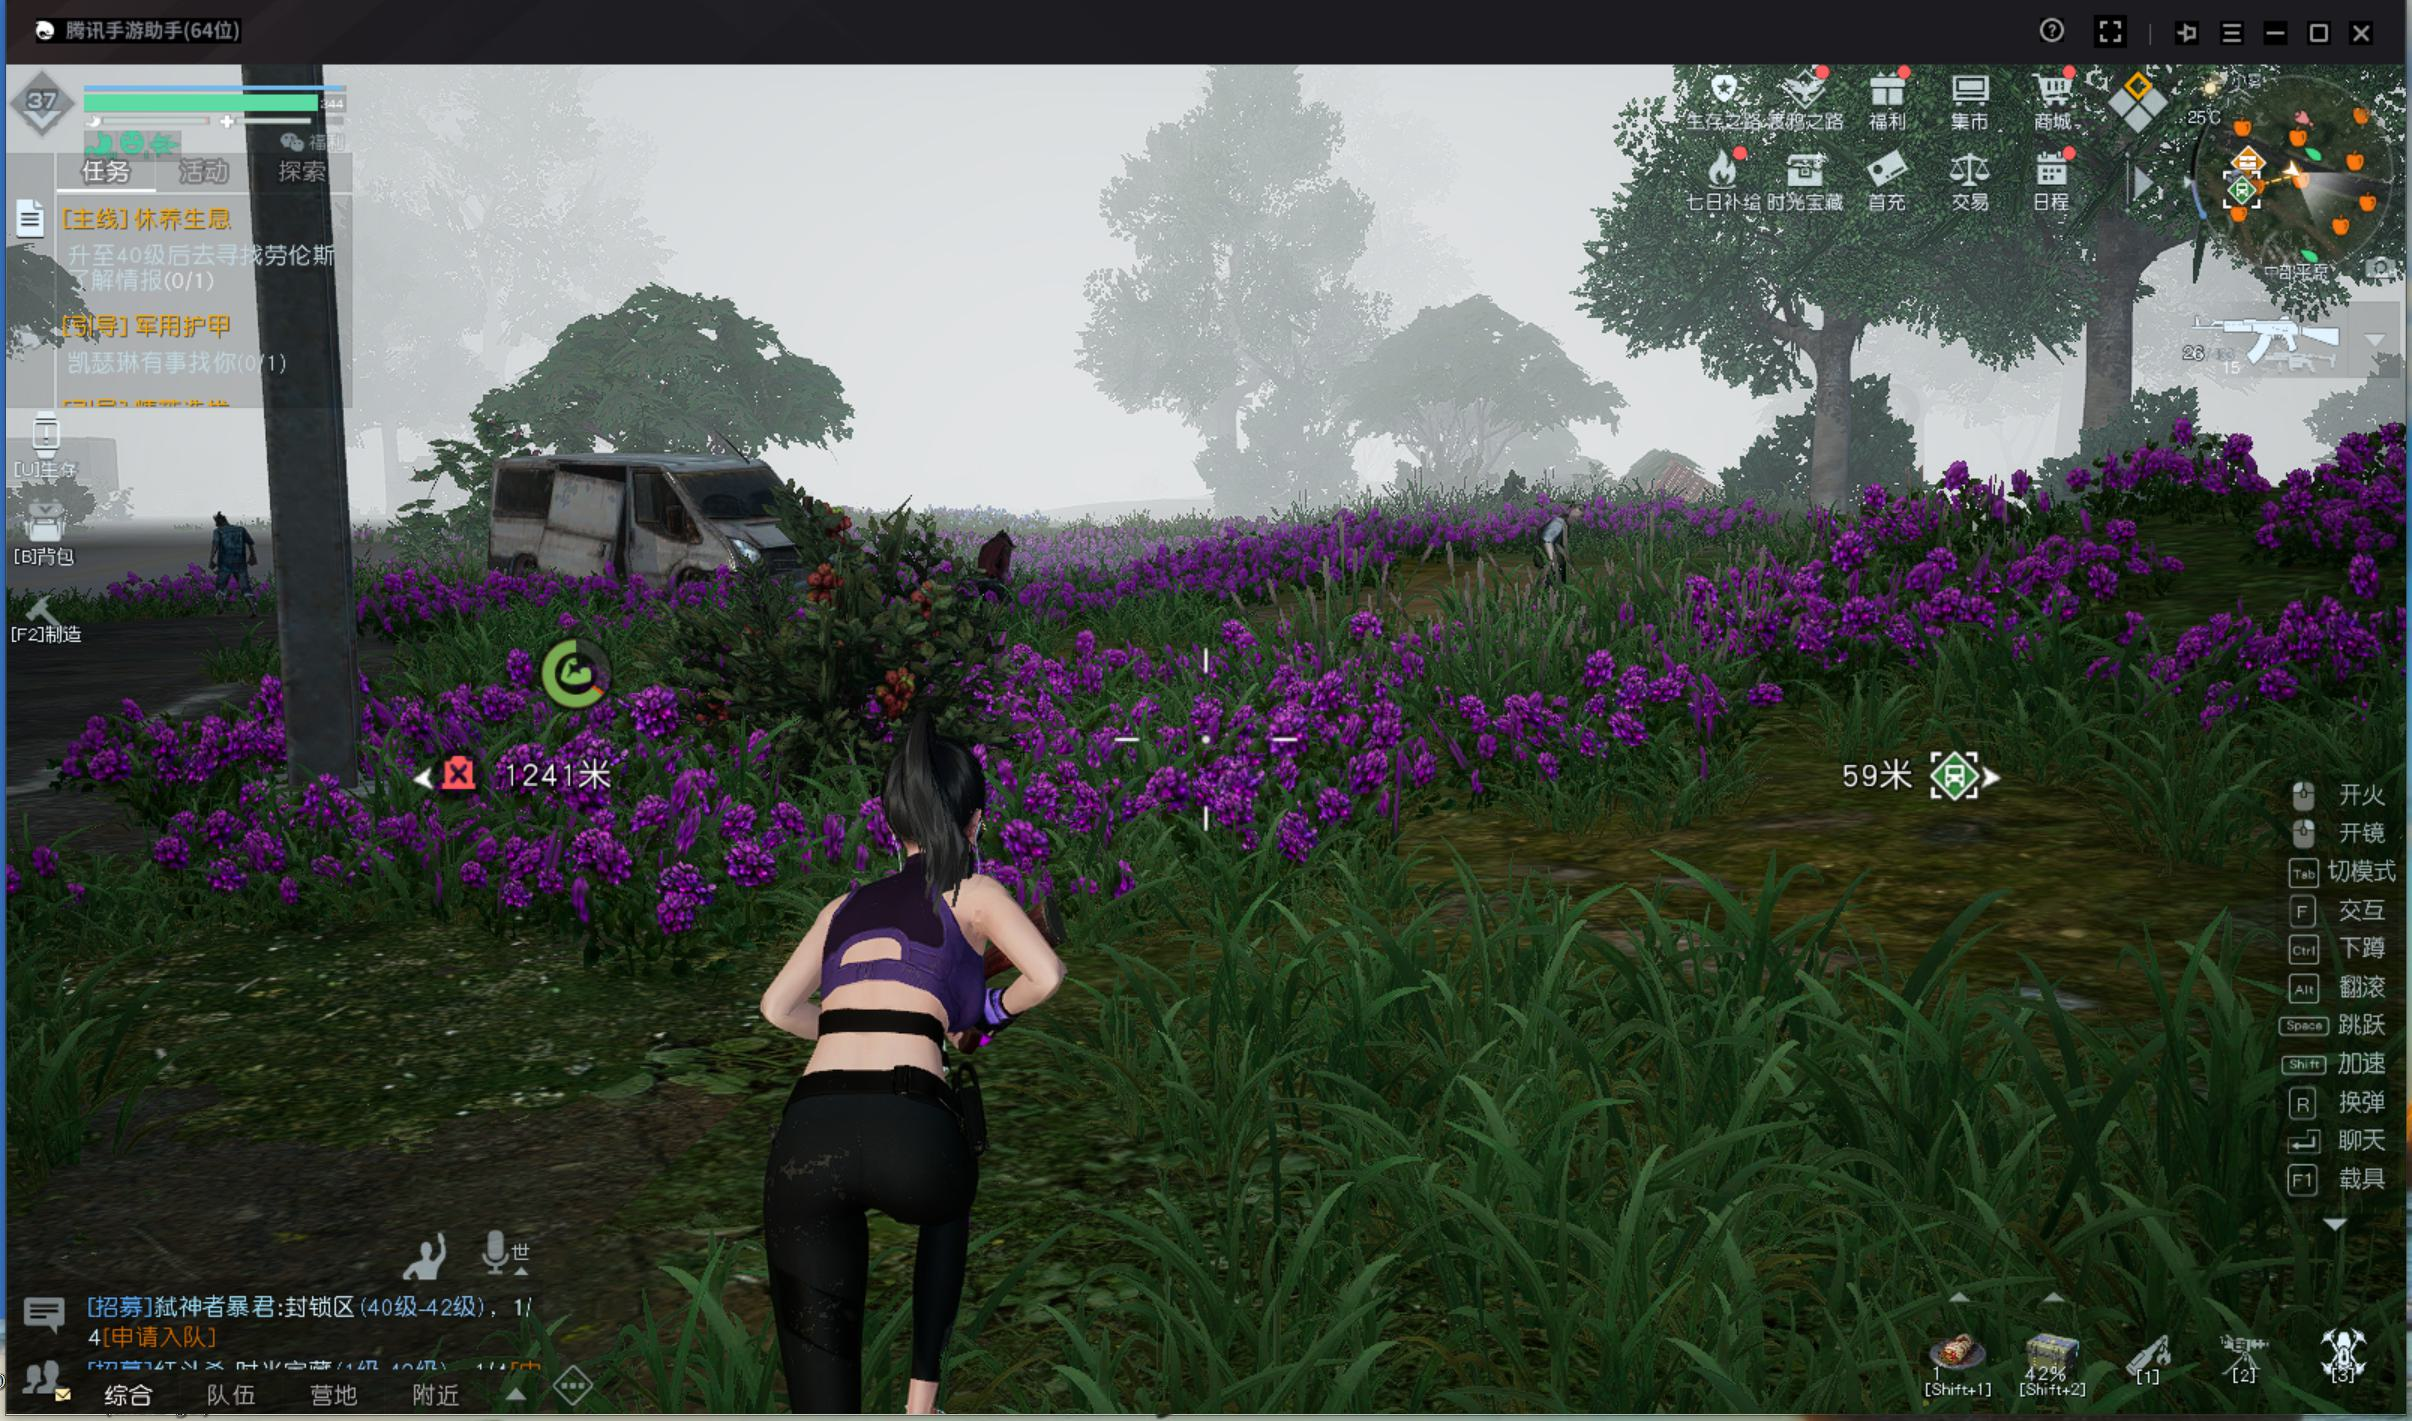tree: (1779, 328, 1871, 535), (2079, 284, 2141, 492), (1810, 348, 1859, 521)
